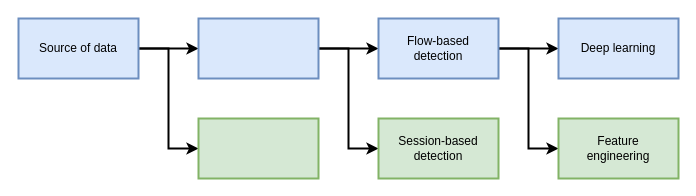
Some shapes in this 696 by 196 pixel diagram are drawn without their labels. The shapes that lost their labels are listed below. From the top down, each one's centre as x and y in pixels, then its label:
At (x=258, y=48): "Network-based IDS".
At (x=258, y=148): "Host-based IDS".
